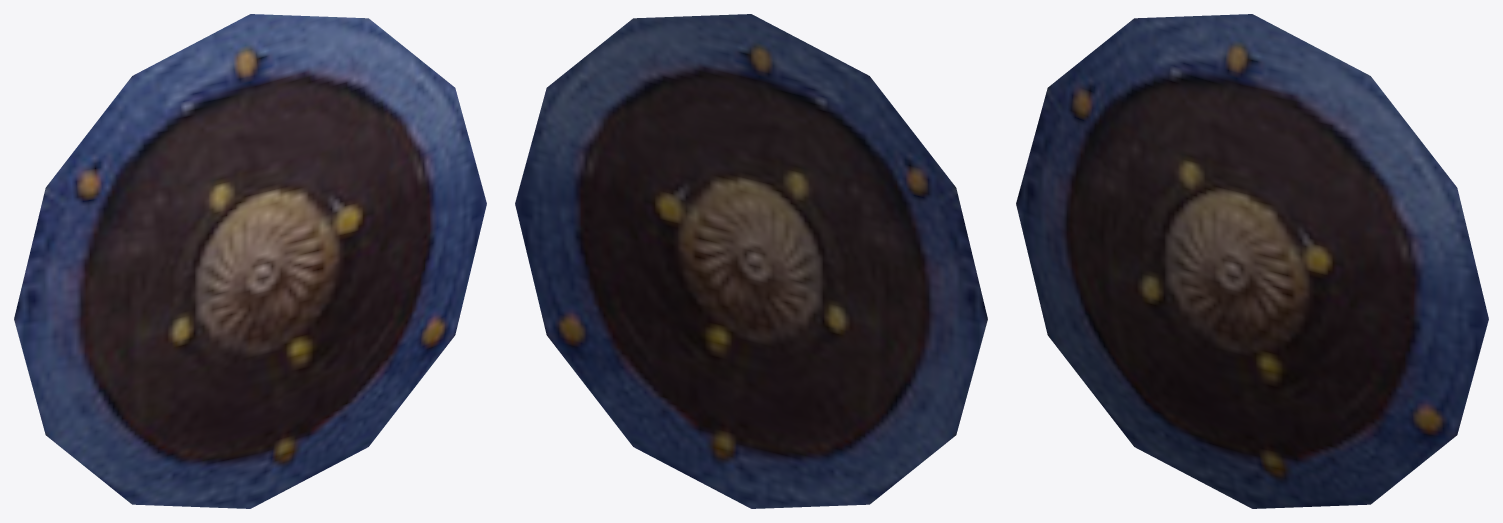
Rendered from shield.glb.
The picture shows the model from 3 angles, left to right: view 1: azimuth 30°, elevation 25°; view 2: azimuth 150°, elevation 25°; view 3: azimuth 330°, elevation 25°; orthographic projection.
Visible parts, largest first — view 1: shield; view 2: shield; view 3: shield.
Boxes of the visible parts, x1,y1,x2,y2 form: shield: [14, 14, 486, 508]; shield: [515, 14, 987, 508]; shield: [1016, 14, 1488, 508].
Size of the model in its own units: 0.6658 by 0.6658 by 0.0394.
1 material, 1 textured.
